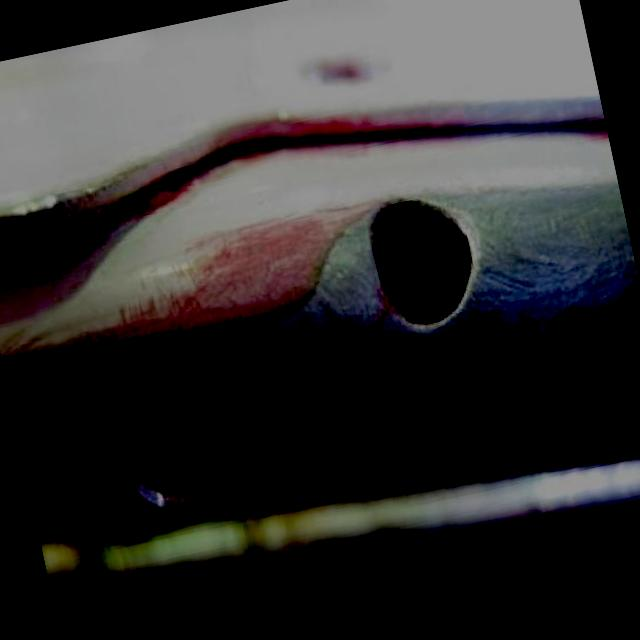crack: (352, 302, 400, 344)
